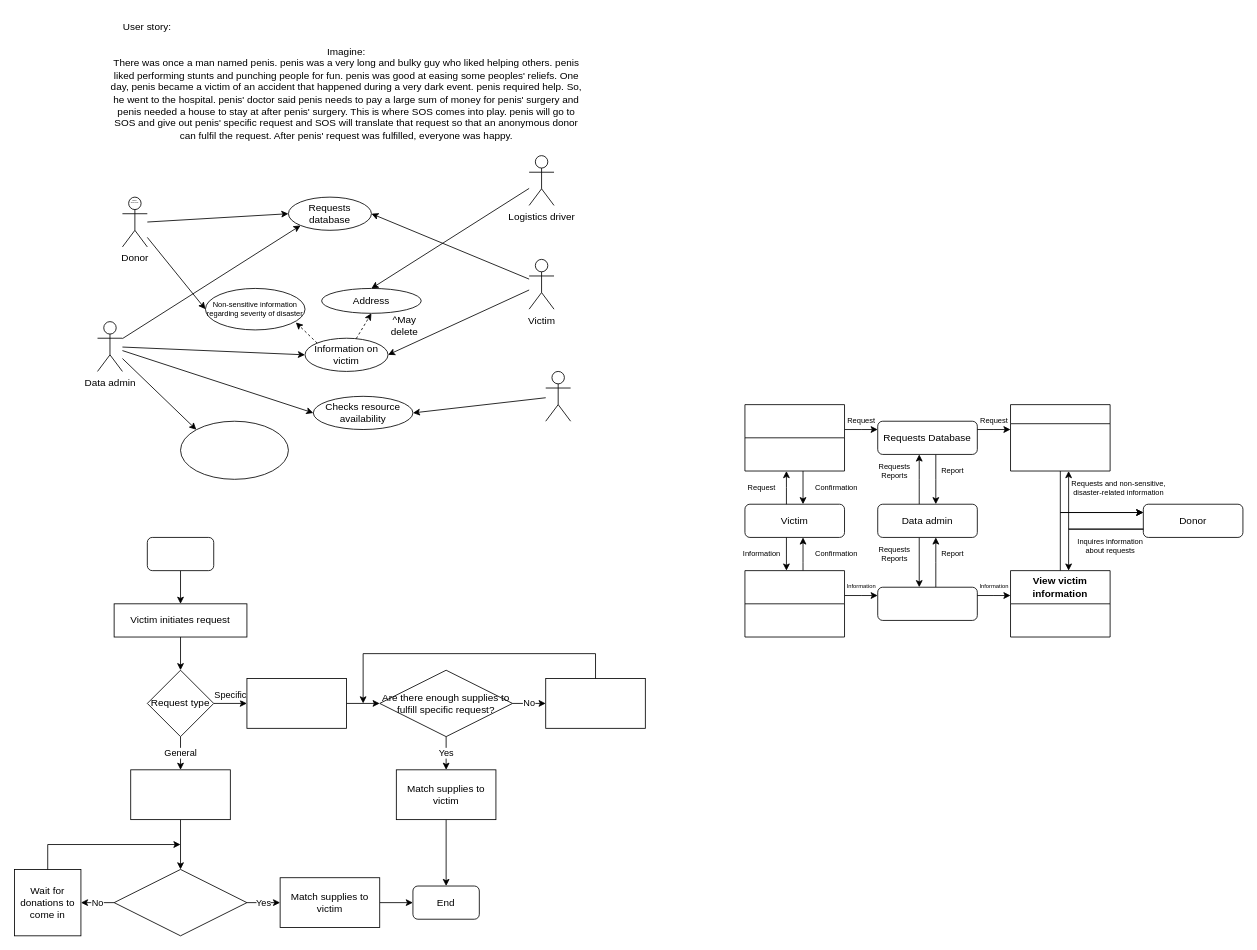
This 1257x950 diagram has some shape labels left out. Here are the shapes that lost their labels. From the top down, the centre of each, then its label:
the point at 558,396: Warehouse worker
the point at 234,449: Generate report from data on requests' types/counts/etc.
the point at 794,437: Manage Request Order
the point at 1060,437: View Requests
the point at 180,554: Start
the point at 794,603: Enters personal information
the point at 927,603: Victim Information Database
the point at 296,703: List the specific request in the relevant database
the point at 595,703: Wait until donor fulfills request or enough supplies come in
the point at 180,794: List the general request in the relevant database
the point at 180,902: Enough supplies to fulfill request?
